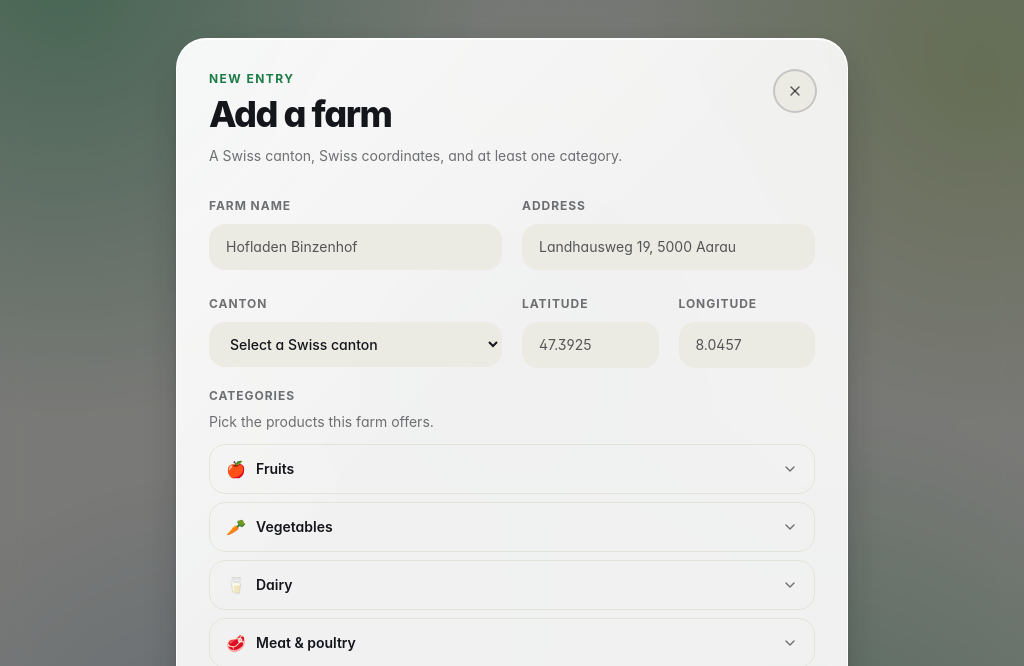
Scenario: CreateFarmDialog category picker › selects a subcategory and reflects it on the category header
What coordinates should you click on to do the following:
click the button "🍎 Fruits"
I would click on:
 (275, 468)
Its box is 210,445 -> 814,493.
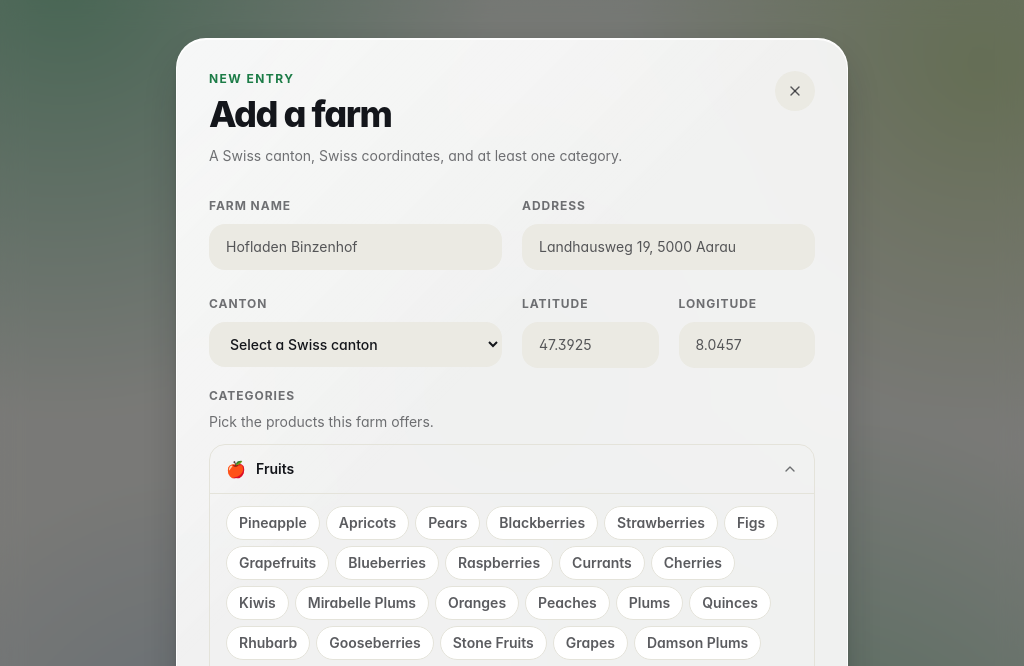
What coordinates should you click on to do the following:
click the button "Strawberries"
I would click on:
 (661, 523)
Its box is 604,506 -> 718,540.
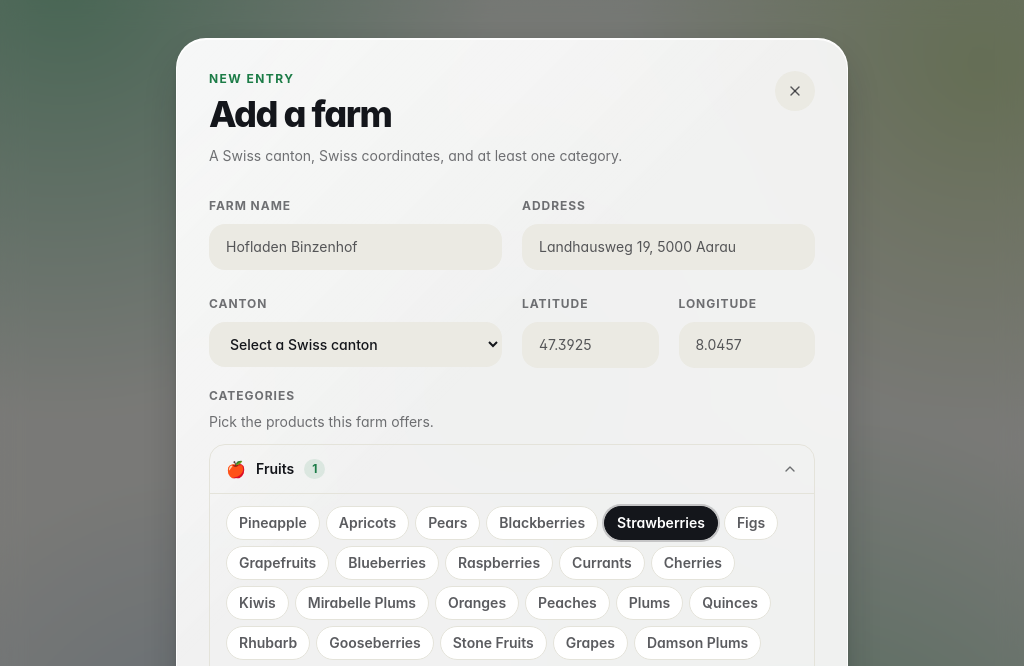
Expected: the button "🍎 Fruits 1" is shown, 210,445 -> 814,493
